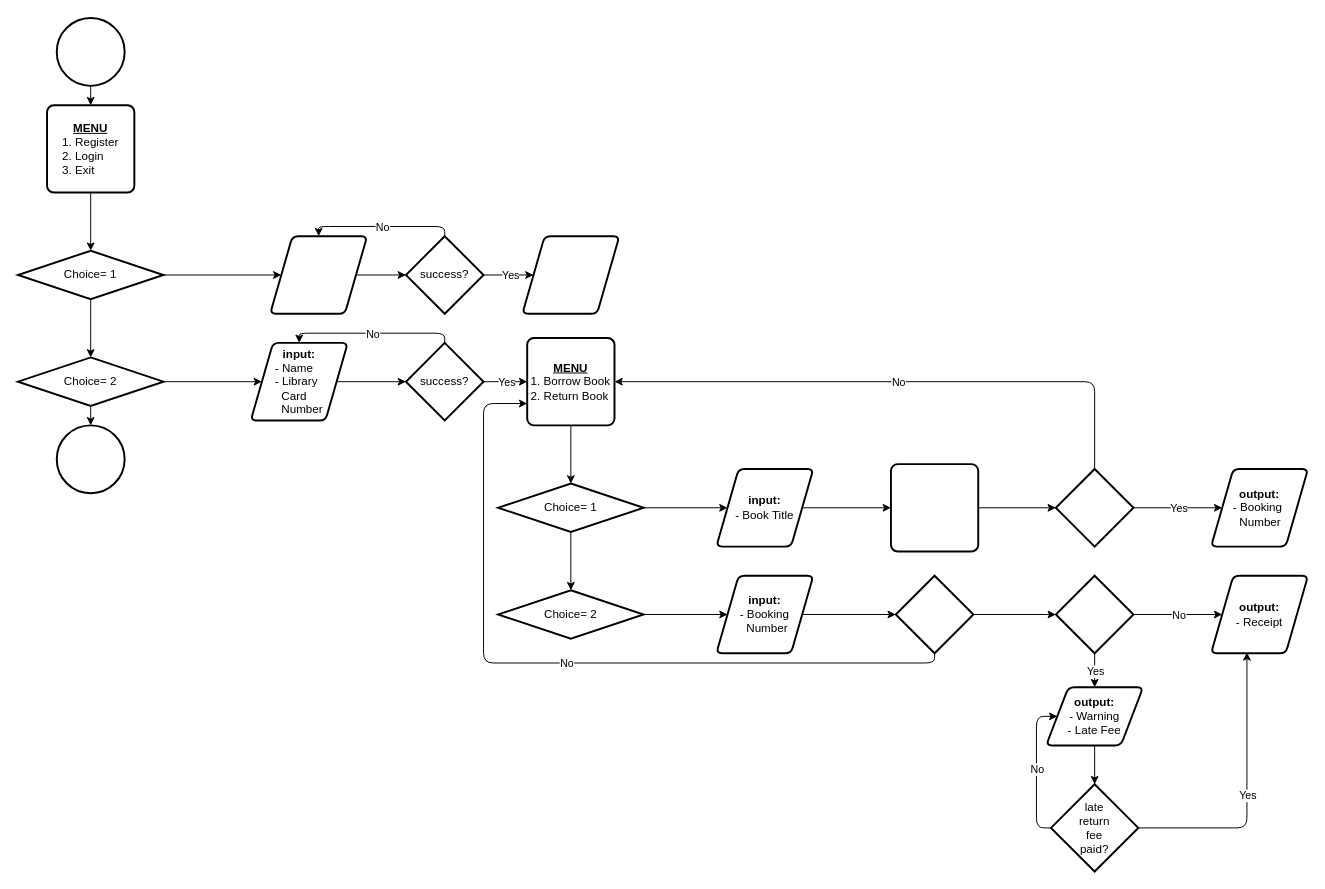
The diagram is 1325 pixels wide and 889 high, and some of its shapes have lost their labels. The shapes that lost their labels are listed below. From the top down, each one's centre as x and y in pixels, then its label:
At point (90, 51): "Start".
At point (318, 274): "input: - Name - ID Card".
At point (570, 274): "output: - Name - ID Card - Library Card".
At point (90, 459): "End".
At point (934, 507): "View Book Title".
At point (1094, 507): "borrow?".
At point (934, 614): "return?".
At point (1094, 614): "late return?".
